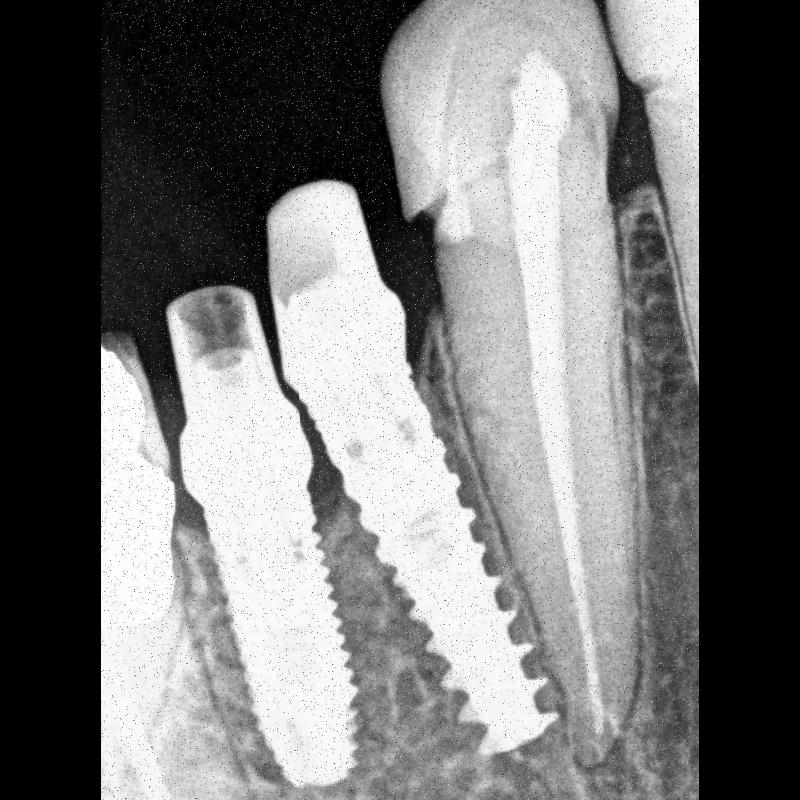ADIN: (301, 374, 571, 768)
